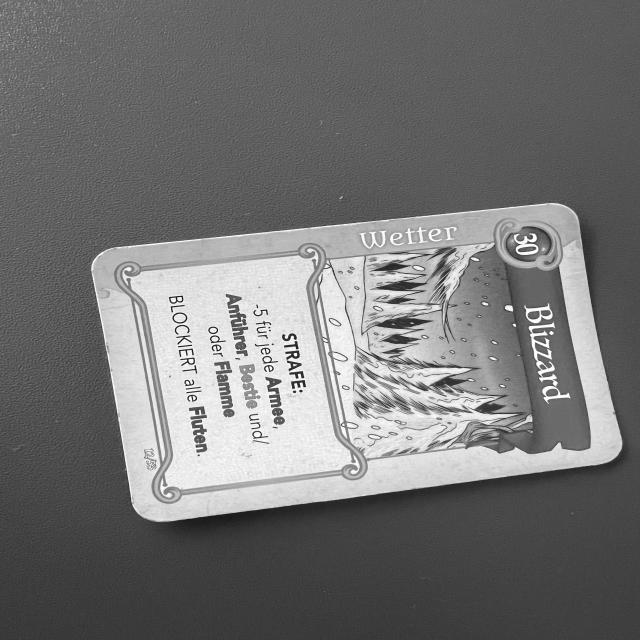Blizzard: (87, 202, 626, 534)
